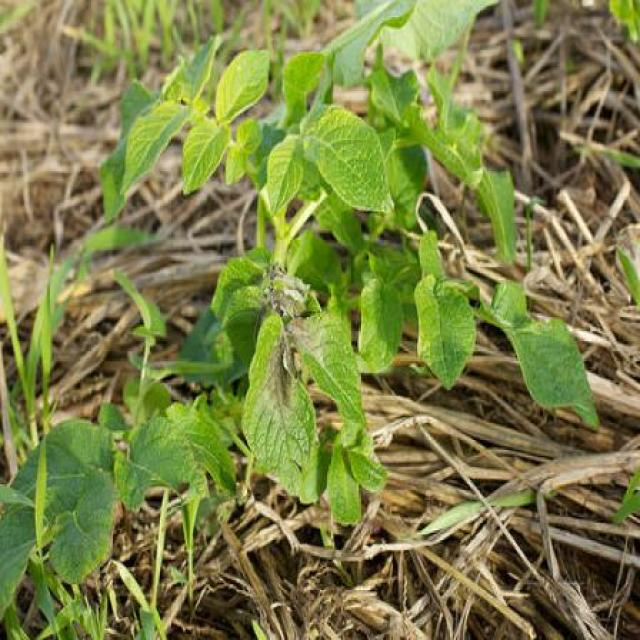Late Blight: (236, 303, 321, 508), (288, 305, 371, 436)
